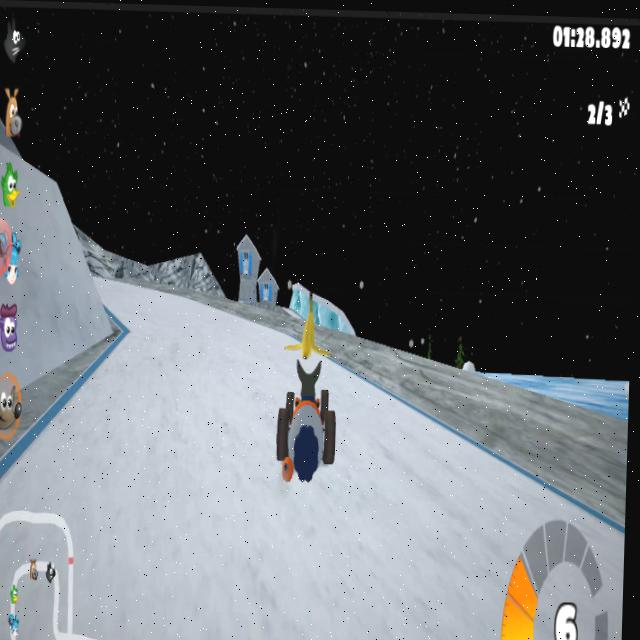obstacle: (288, 292, 330, 364)
player_kart: (266, 359, 349, 488)
track: (0, 530, 624, 640), (78, 375, 267, 546), (344, 413, 436, 552), (125, 319, 253, 379), (0, 472, 84, 534), (435, 429, 478, 545), (475, 460, 533, 544), (534, 500, 610, 546), (30, 430, 83, 471), (100, 273, 143, 314), (176, 296, 224, 322), (144, 289, 175, 320), (254, 322, 271, 377), (58, 409, 82, 429)
